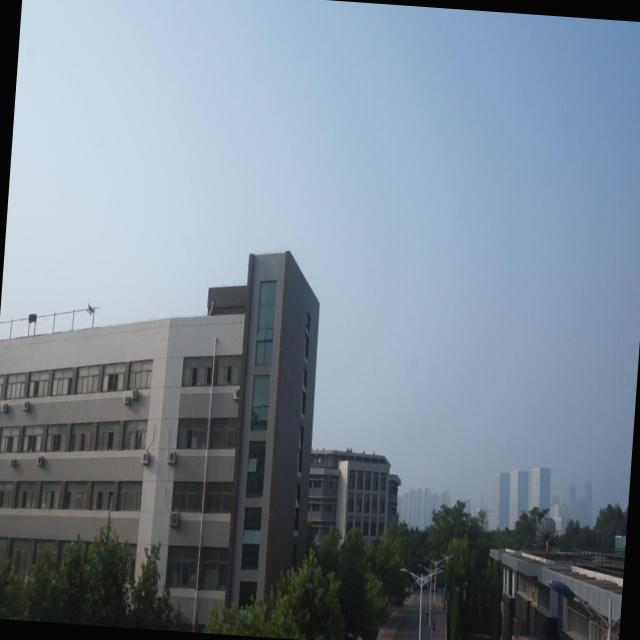drone: (84, 296, 96, 318)
